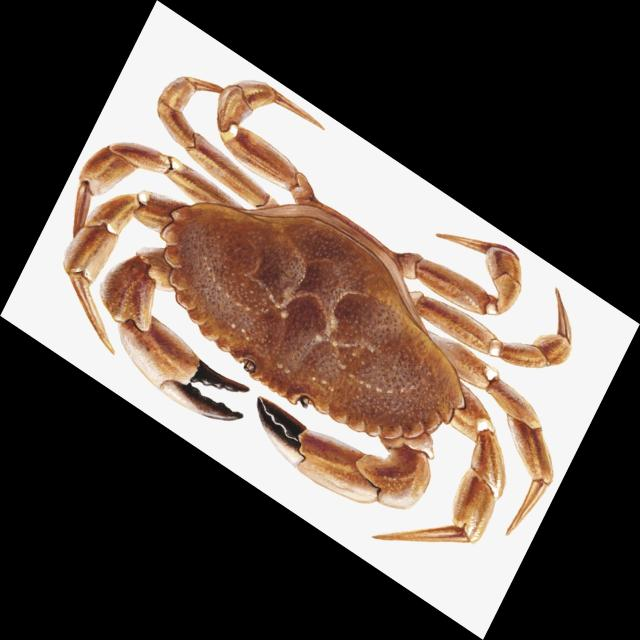Native Jonah crab: (64, 77, 571, 543)
